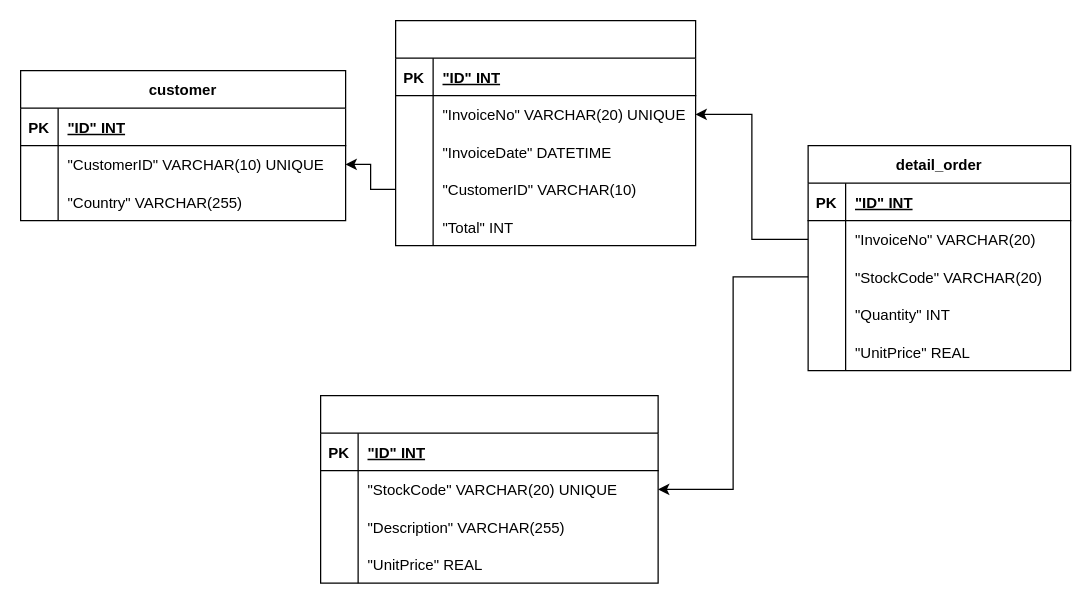
The diagram is 1091 pixels wide and 604 high, and some of its shapes have lost their labels. The shapes that lost their labels are listed below. From the top down, each one's box as (x1, y1, x2, y2) in pixels, then its label:
(394, 19, 696, 246): order
(319, 394, 658, 583): product
